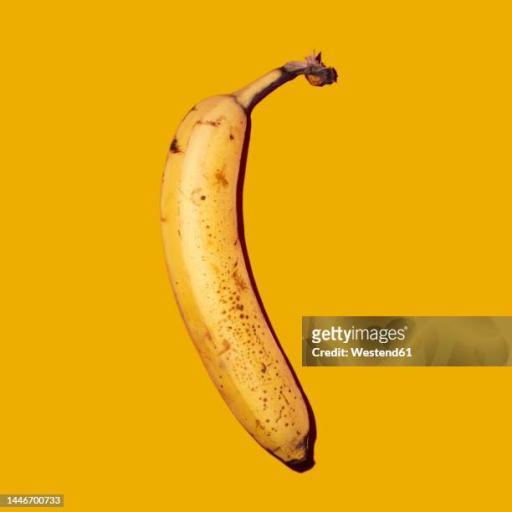banana: (162, 55, 336, 471)
